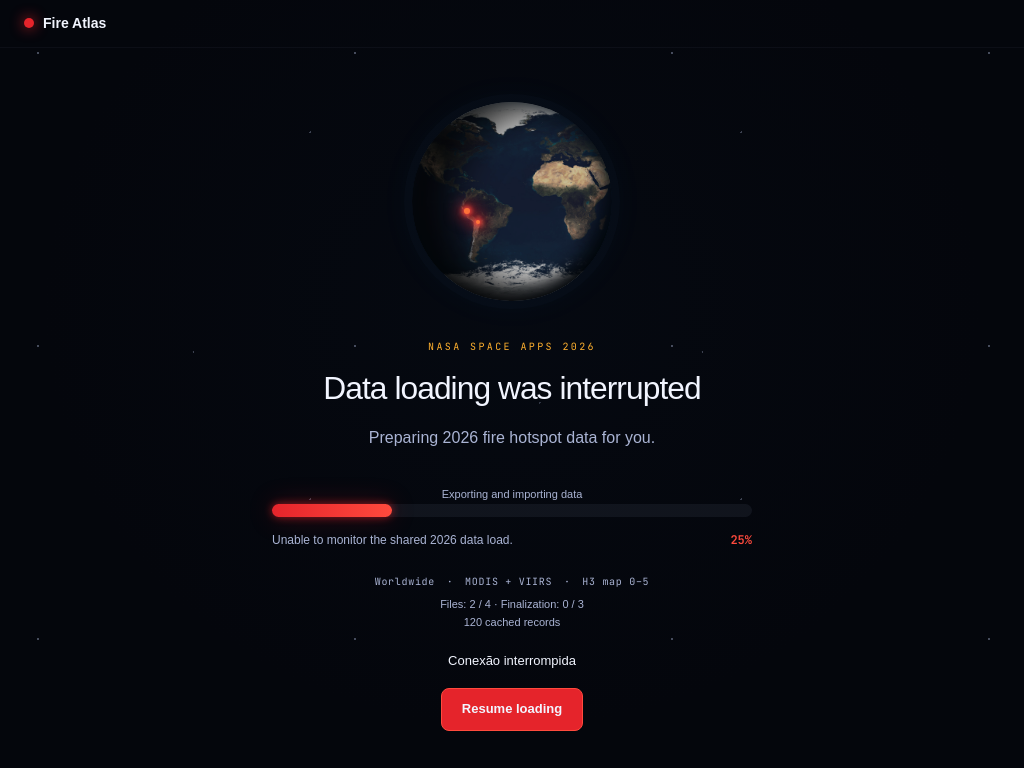
entrada após a carga anual › mantém a entrada bloqueada após falha e só libera depois da retomada concluída
Expected: the text "Exploração disponível" is not shown
Expected: the message "Conexão interrompida" is shown, left=448, top=653, right=576, bottom=668
Click the button "Resume loading": click(512, 710) left=441, top=688, right=583, bottom=731
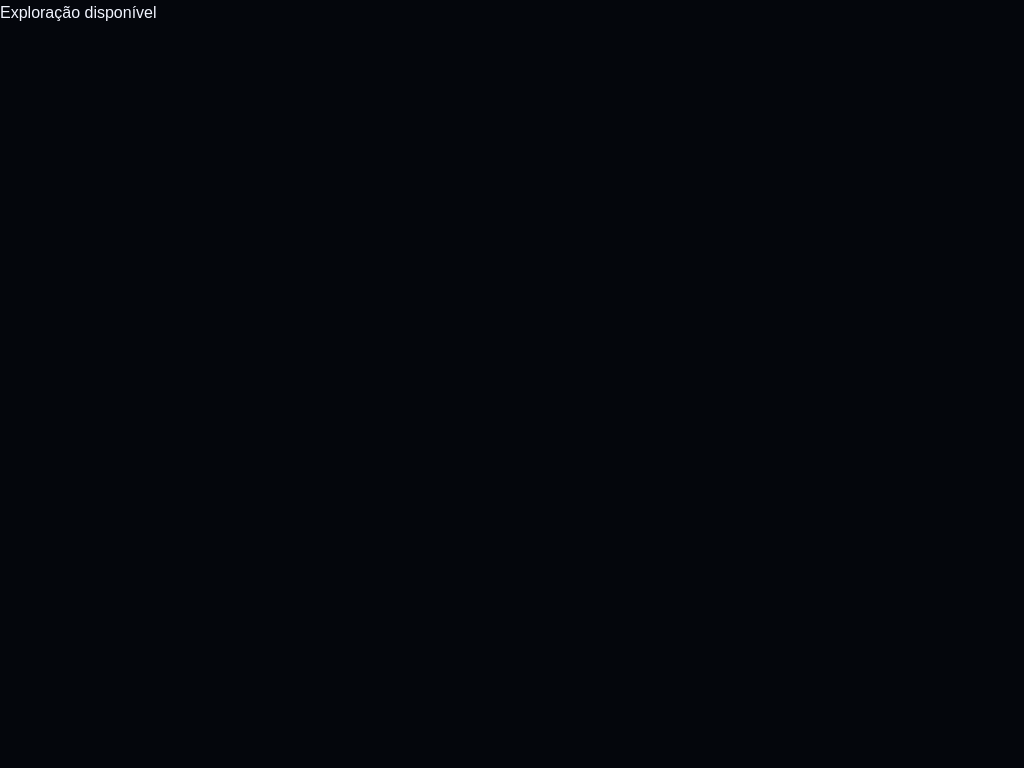
Now the text "Exploração disponível" is shown, box left=0, top=4, right=156, bottom=21
